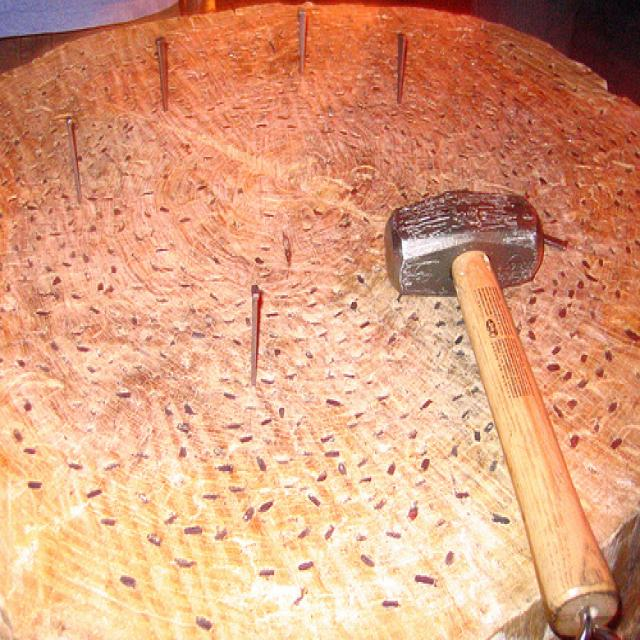hammer: (350, 145, 630, 630)
